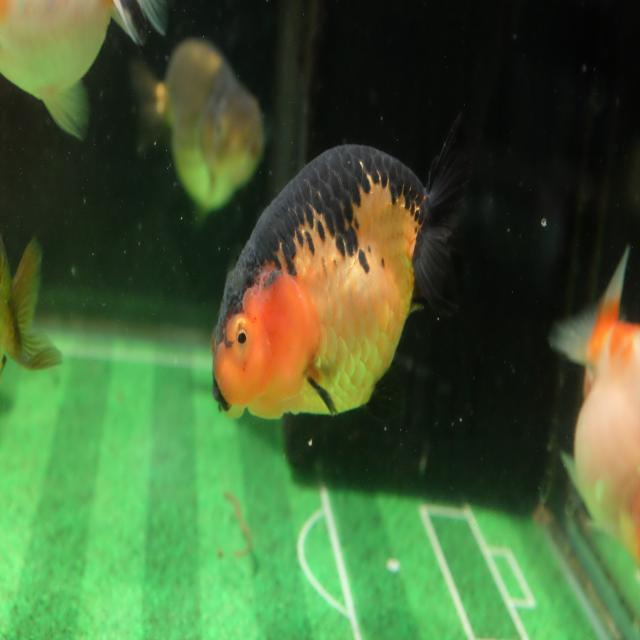Tilapia: (210, 103, 475, 424), (547, 240, 640, 576), (129, 36, 268, 230), (0, 0, 168, 141)
